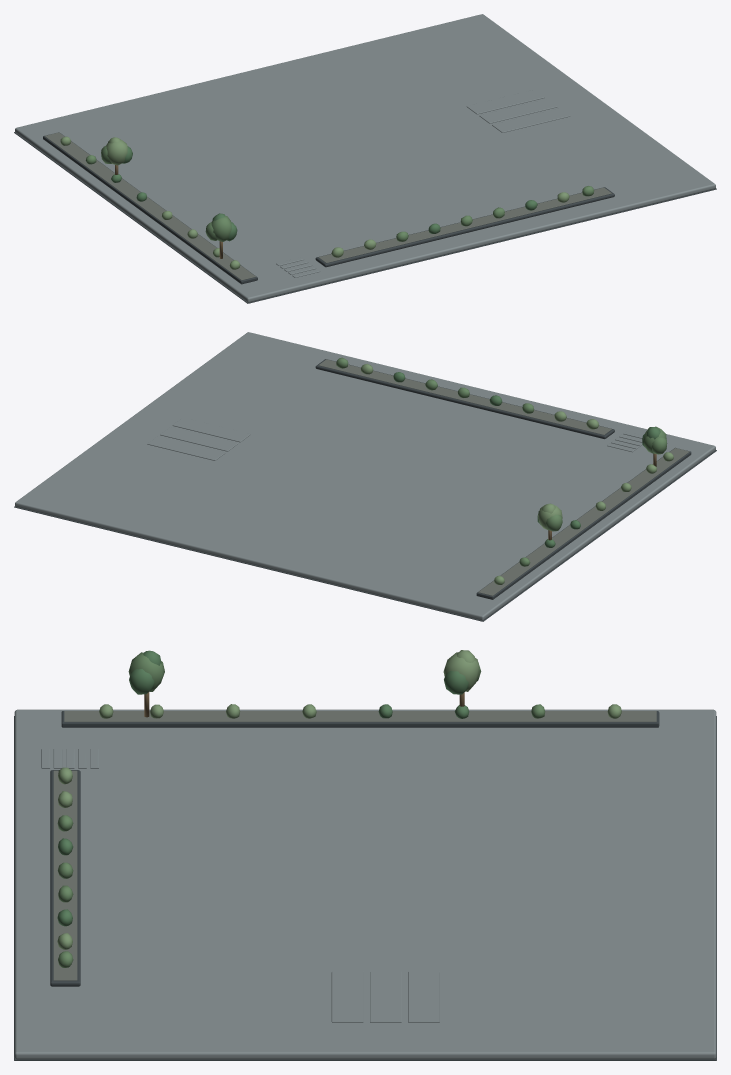
Rendered from garden-site.glb.
3 renders of one model, top to bottom at view 1: azimuth 30°, elevation 25°; view 2: azimuth 150°, elevation 25°; view 3: azimuth 270°, elevation 25°, orthographic. The views are drawn at different scales.
Parts seen in each view (by area): view 1: Site_Unified_Plot, Site_Side_Gravel, Site_Front_Gravel, Site_Front_Planter, Site_Plot_Dark_Base, Site_Side_Planter, Site_EV_Access_Paver, Site_EV_Access_Paver.001, Site_EV_Access_Paver.002; view 2: Site_Unified_Plot, Site_Side_Gravel, Site_Front_Gravel, Site_Front_Planter, Site_Plot_Dark_Base, Site_Side_Planter, Site_EV_Access_Paver, Site_EV_Access_Paver.001, Site_EV_Access_Paver.002; view 3: Site_Unified_Plot, Site_Side_Gravel, Site_Side_Planter, Site_Front_Gravel, Site_Plot_Dark_Base, Site_Front_Planter, Site_EV_Access_Paver.002, Site_EV_Access_Paver, Site_EV_Access_Paver.001, Site_Tree_Canopy.
Part boxes in pixels (bbox=[...]): Site_Unified_Plot: bbox=[15, 14, 715, 302]; Site_Side_Gravel: bbox=[45, 132, 255, 280]; Site_Front_Gravel: bbox=[318, 187, 611, 262]; Site_Front_Planter: bbox=[315, 187, 614, 267]; Site_Plot_Dark_Base: bbox=[14, 132, 716, 303]; Site_Side_Planter: bbox=[43, 132, 257, 284]; Site_EV_Access_Paver: bbox=[466, 89, 544, 114]; Site_EV_Access_Paver.001: bbox=[479, 99, 557, 123]; Site_EV_Access_Paver.002: bbox=[492, 108, 570, 132]; Site_Unified_Plot: bbox=[15, 332, 715, 620]; Site_Side_Gravel: bbox=[478, 448, 689, 595]; Site_Front_Gravel: bbox=[318, 359, 611, 434]; Site_Front_Planter: bbox=[315, 359, 614, 439]; Site_Plot_Dark_Base: bbox=[14, 450, 716, 621]; Site_Side_Planter: bbox=[476, 447, 691, 599]; Site_EV_Access_Paver: bbox=[147, 436, 225, 460]; Site_EV_Access_Paver.001: bbox=[160, 427, 238, 451]; Site_EV_Access_Paver.002: bbox=[172, 417, 250, 442]; Site_Unified_Plot: bbox=[14, 709, 716, 1059]; Site_Side_Gravel: bbox=[64, 711, 656, 721]; Site_Side_Planter: bbox=[61, 711, 659, 727]; Site_Front_Gravel: bbox=[53, 770, 77, 980]; Site_Plot_Dark_Base: bbox=[14, 716, 716, 1060]; Site_Front_Planter: bbox=[50, 770, 80, 986]; Site_EV_Access_Paver.002: bbox=[331, 971, 363, 1022]; Site_EV_Access_Paver: bbox=[408, 971, 439, 1022]; Site_EV_Access_Paver.001: bbox=[370, 971, 401, 1022]; Site_Tree_Canopy: bbox=[443, 652, 479, 691].
Bounding box in the file's own units: 32.05 × 3.44 × 27.65.
